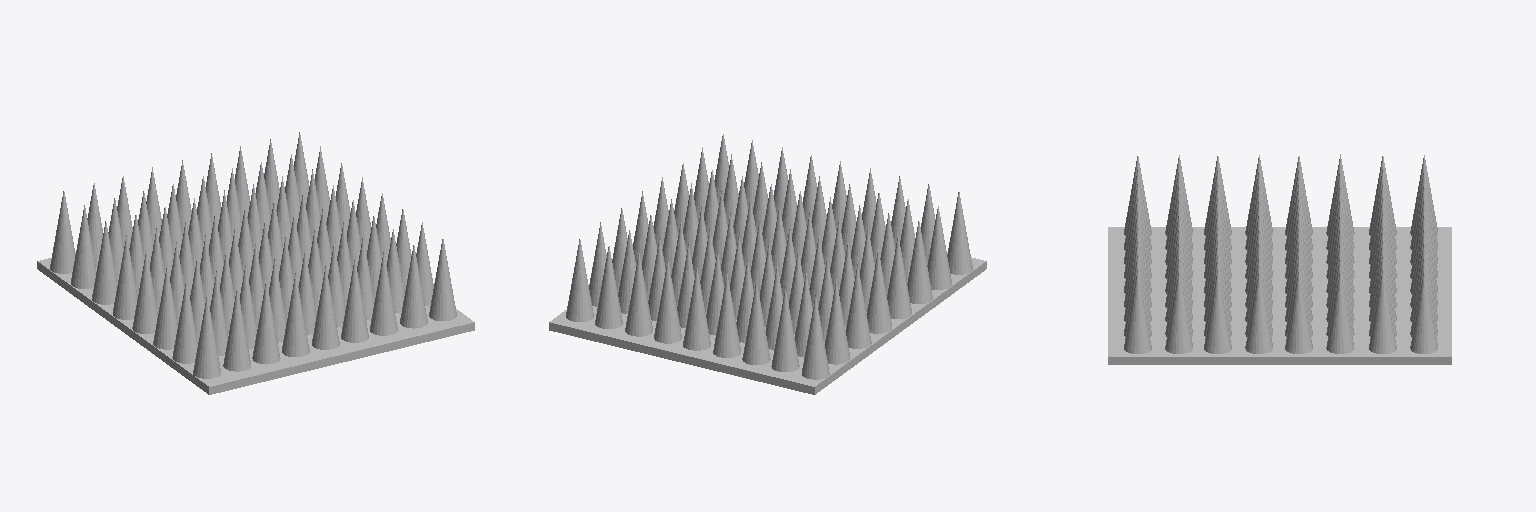
The model's file is DeathBlockObj.obj.
3 views of the same model, side by side, from view 1: azimuth 30°, elevation 25°; view 2: azimuth 150°, elevation 25°; view 3: azimuth 270°, elevation 25° (orthographic).
Visible parts, largest first — view 1: DeathBlock; view 2: DeathBlock; view 3: DeathBlock.
Part boxes in pixels (left/top/right/bottom): DeathBlock: left=37, top=132, right=474, bottom=394; DeathBlock: left=549, top=134, right=986, bottom=394; DeathBlock: left=1108, top=154, right=1451, bottom=364.
Size of the model in its own units: 132 by 41.59 by 148.